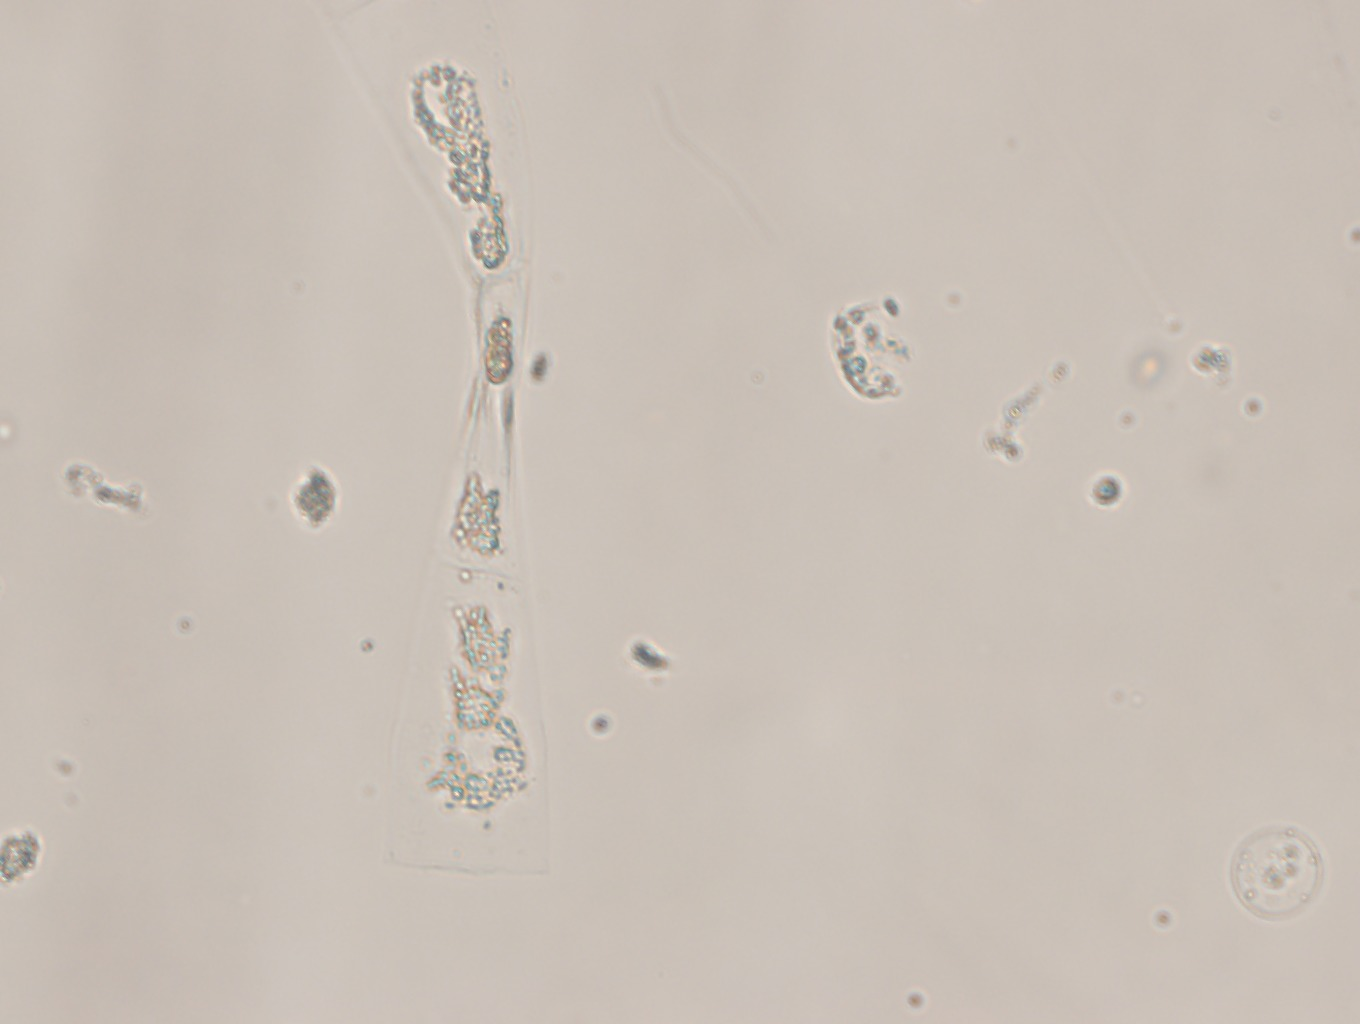helicotheca: (313, 1, 554, 880)
